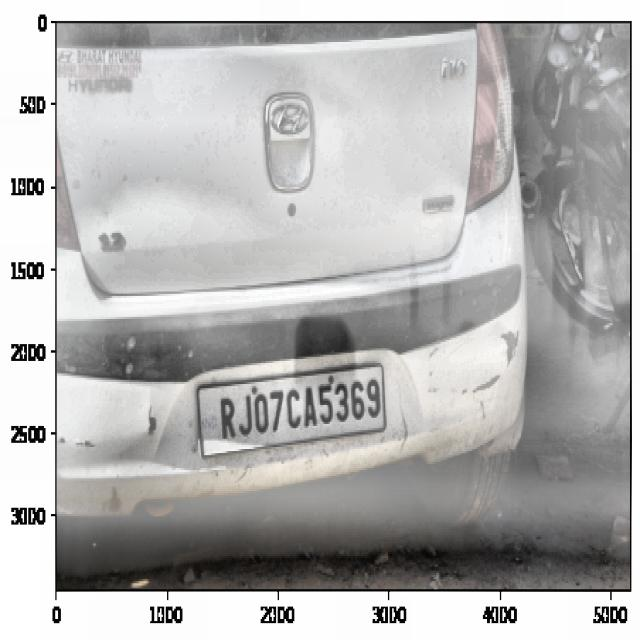license_plate: (214, 373, 384, 443)
